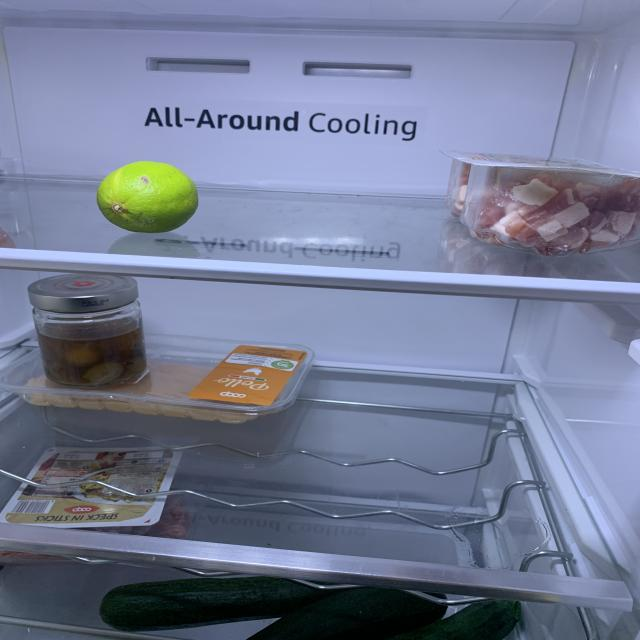bacon: (442, 168, 639, 251)
chicken_breast: (25, 362, 259, 424)
courgettes: (99, 576, 521, 640)
ground_beef: (0, 508, 187, 566)
lime: (97, 158, 201, 232)
olives: (40, 325, 144, 392)
